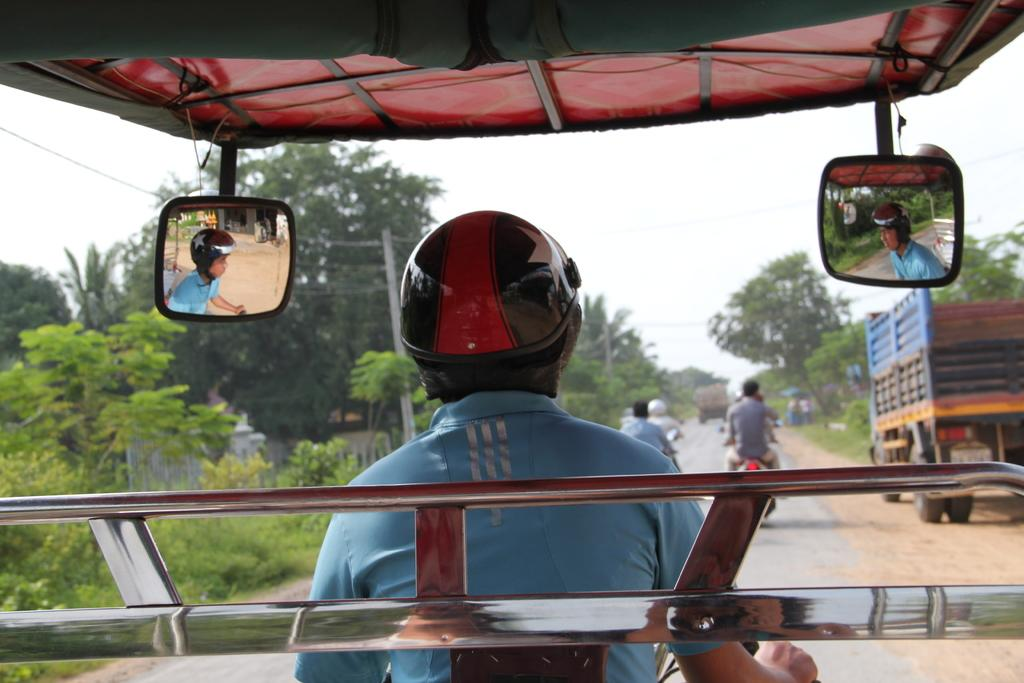helmet: (400, 210, 580, 402), (190, 228, 237, 277), (870, 202, 911, 250), (647, 399, 666, 418)
nohelmet: (742, 380, 760, 401), (633, 399, 650, 421)
